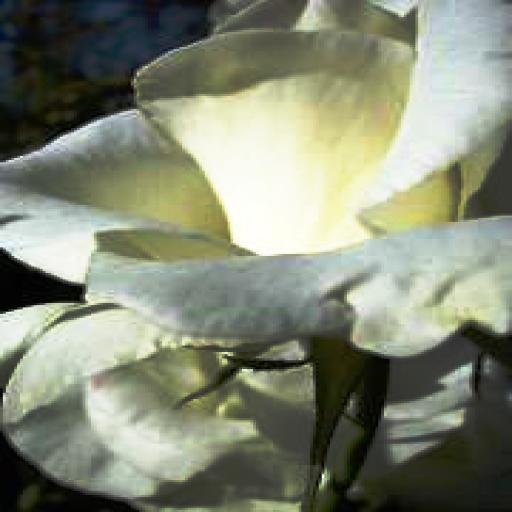rose: (3, 2, 508, 512)
